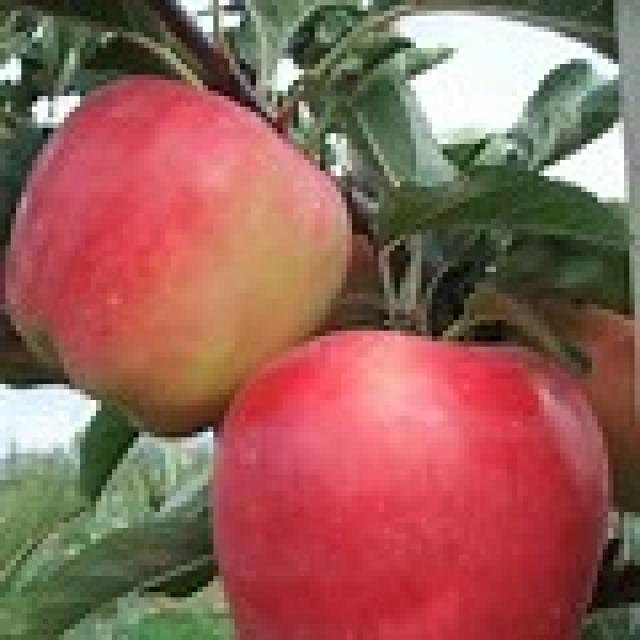apple: (212, 329, 616, 640), (4, 73, 353, 334)
